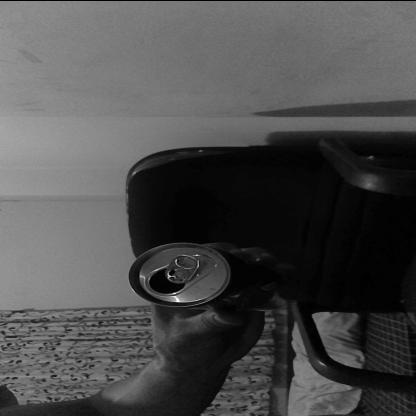alumunium_can: (127, 242, 308, 312)
